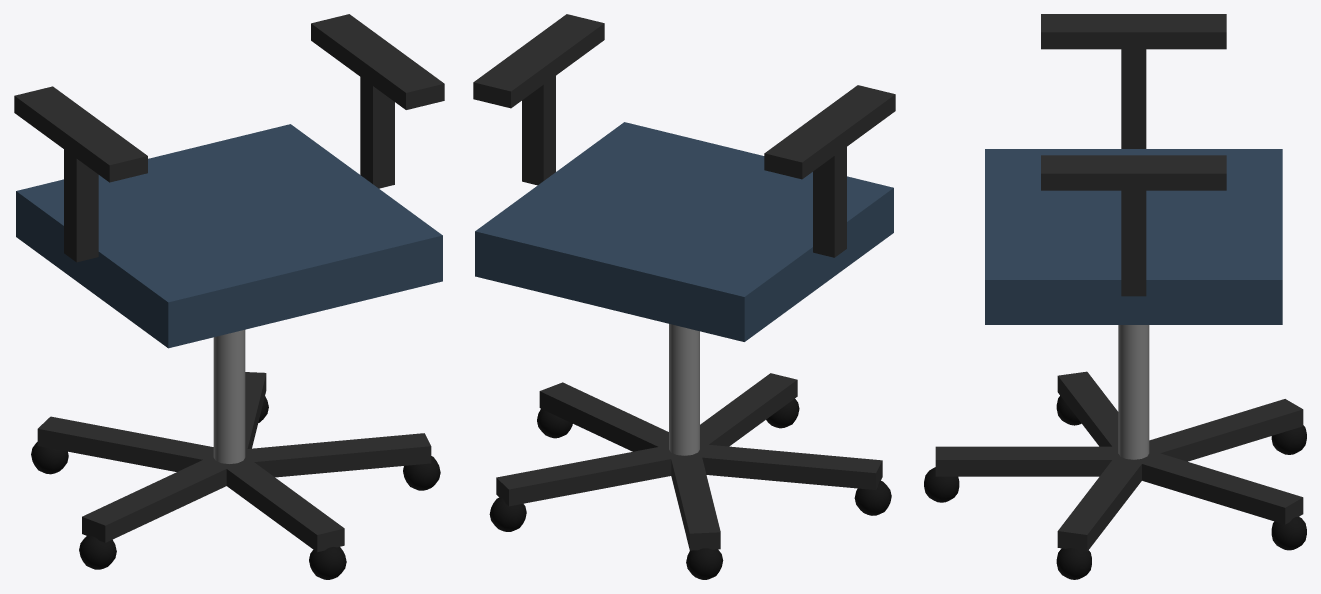
Rendered from swivelchair.glb.
3 renders of one model, left to right at view 1: azimuth 30°, elevation 25°; view 2: azimuth 150°, elevation 25°; view 3: azimuth 270°, elevation 25°, orthographic. The views are drawn at different scales.
Size of the model in its own units: 0.6497 by 0.725 by 0.6179.
